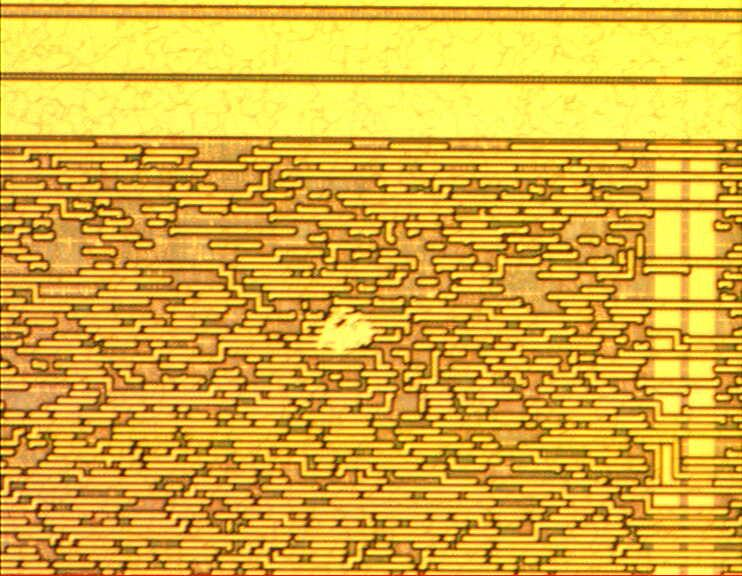BLOCK ETCH: (314, 299, 382, 367)
